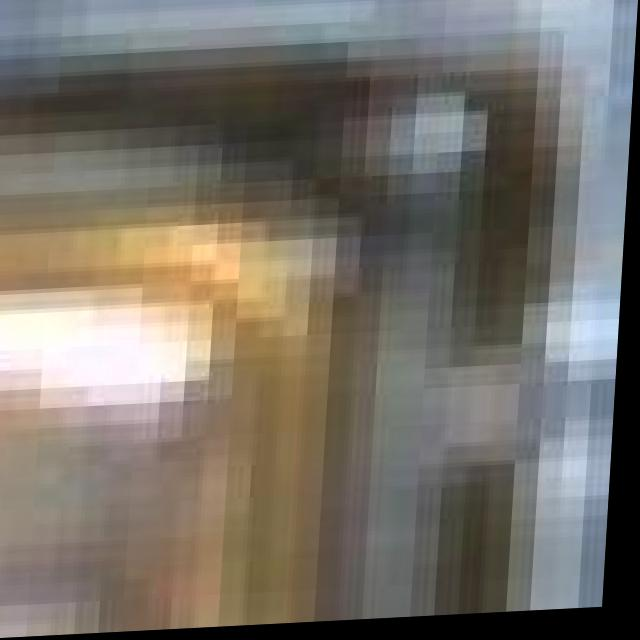clock: (0, 52, 576, 640)
